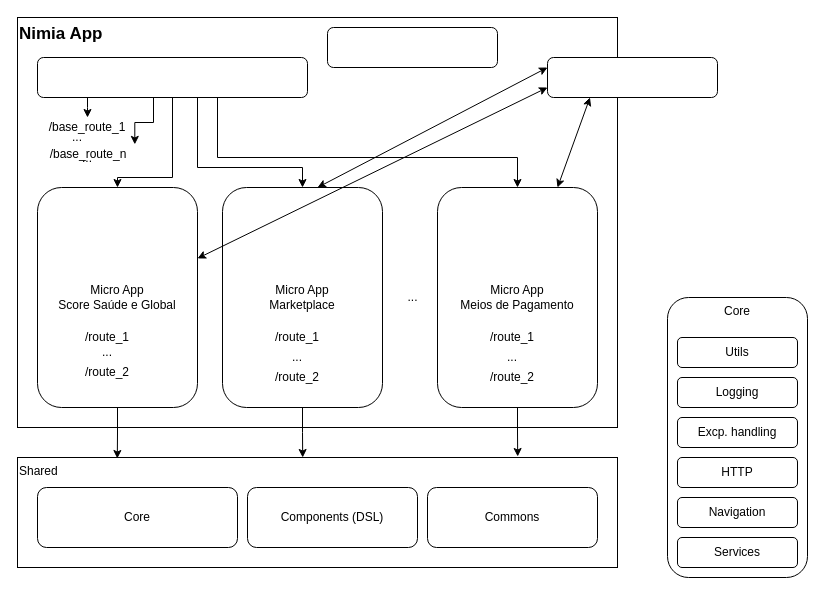
This 825x595 diagram has some shape labels left out. Here are the shapes that lost their labels. From the top down, the centre of each, then its label:
At (412,47): "Dependency Injection".
At (172,77): "Router Register".
At (632,77): "Event Bus".
